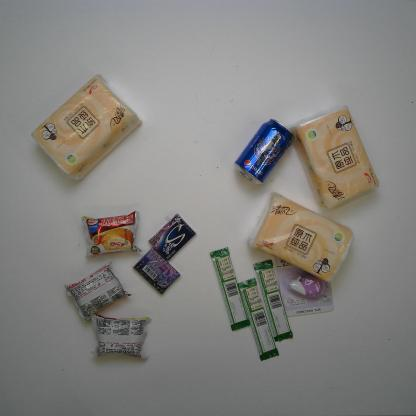Chocolate: (237, 277, 280, 362), (252, 258, 294, 344), (209, 246, 251, 332)
Dessert: (64, 258, 132, 322), (89, 312, 152, 360), (80, 210, 142, 258)
Drink: (232, 117, 294, 186)
Gum: (148, 213, 196, 262), (133, 247, 180, 295)
Stationery: (275, 245, 335, 320)
Tissue: (31, 74, 143, 182), (247, 190, 355, 284), (288, 104, 381, 210)
